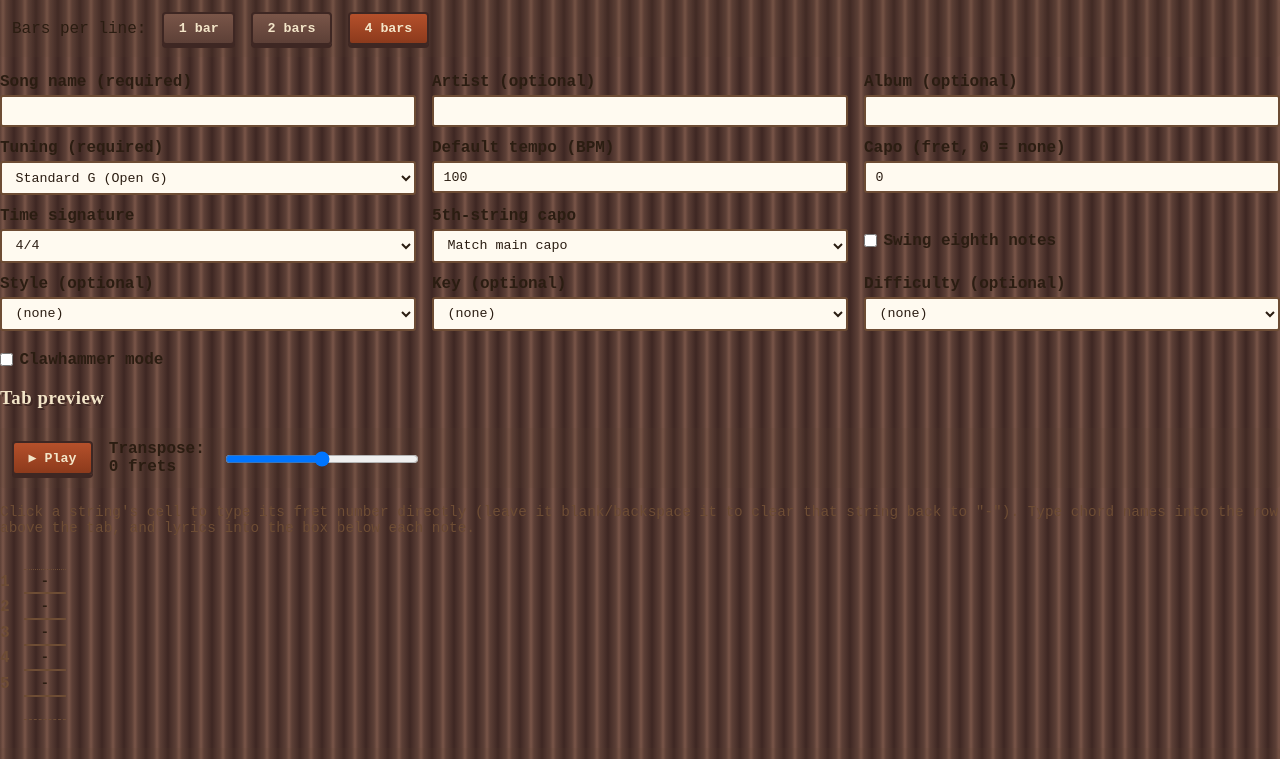
TabEditor › applies a technique via its keyboard shortcut while a note is selected
Click the 1st text with class "clickable" at {"x": 45, "y": 582}, box [24,570,66,594]
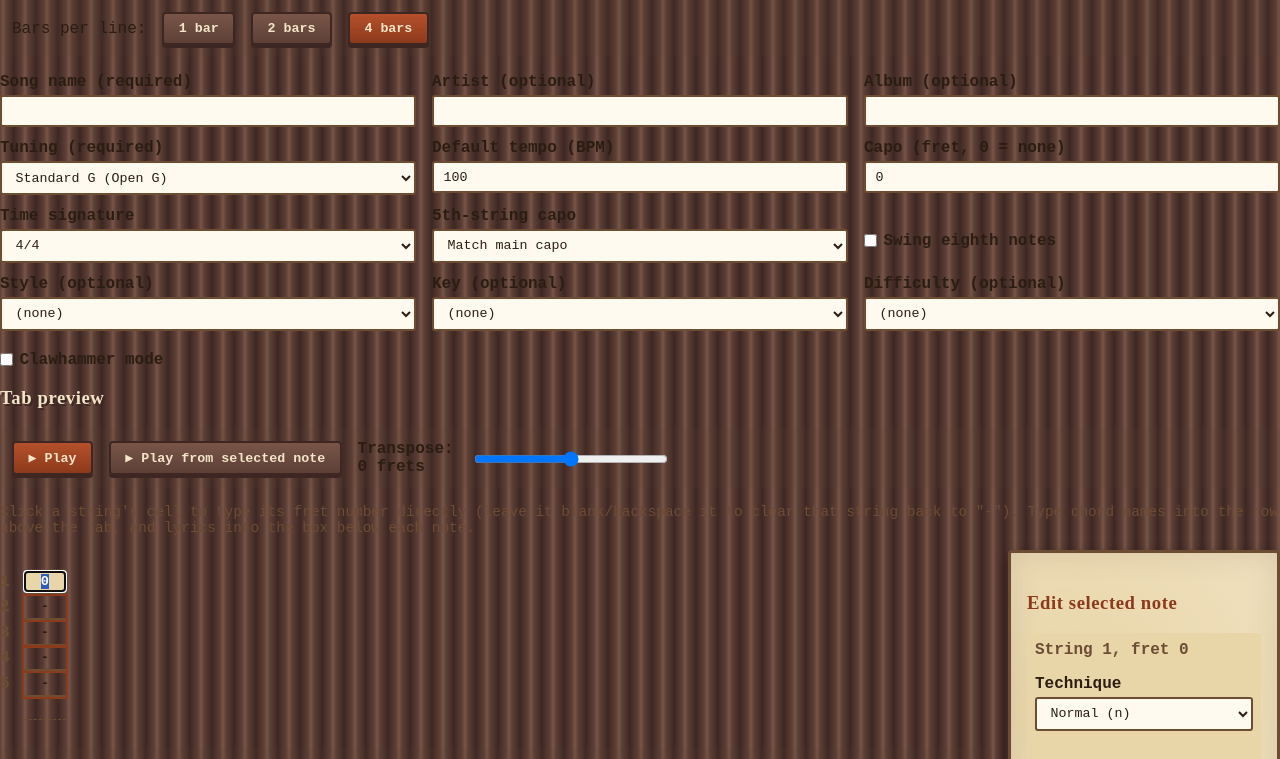
Replace the text in the field named "Fret for string 1" with "2" at {"x": 45, "y": 581}, box [24,571,66,592]
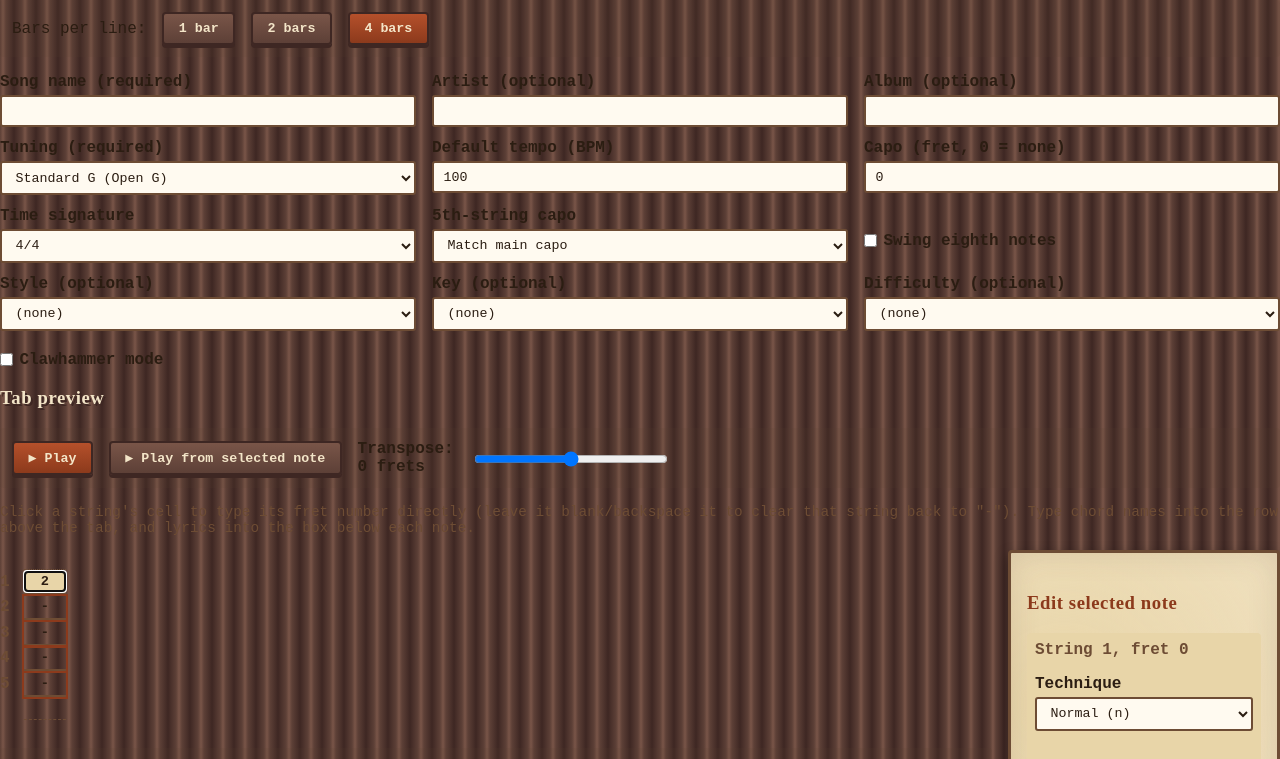
Press Enter
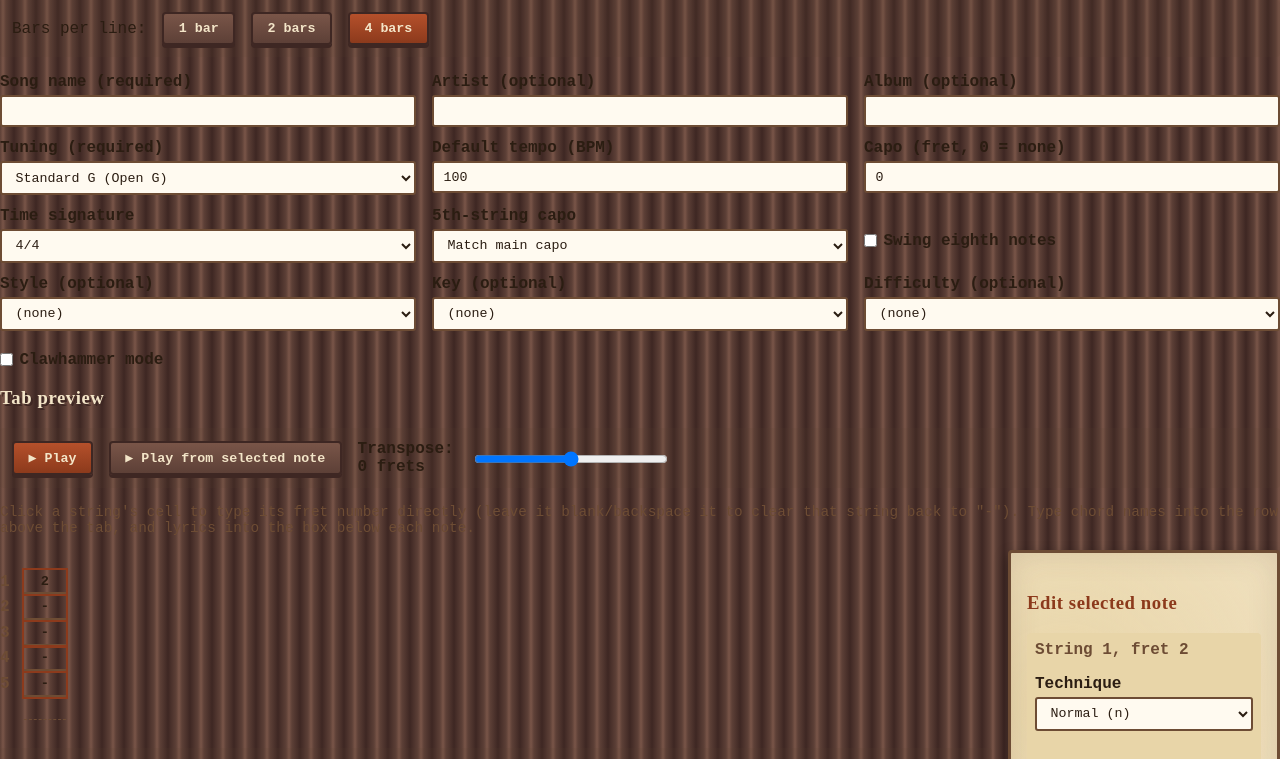
Expected: the heading "Edit selected note" is shown, [1027,592,1177,613]
Type keys "h"
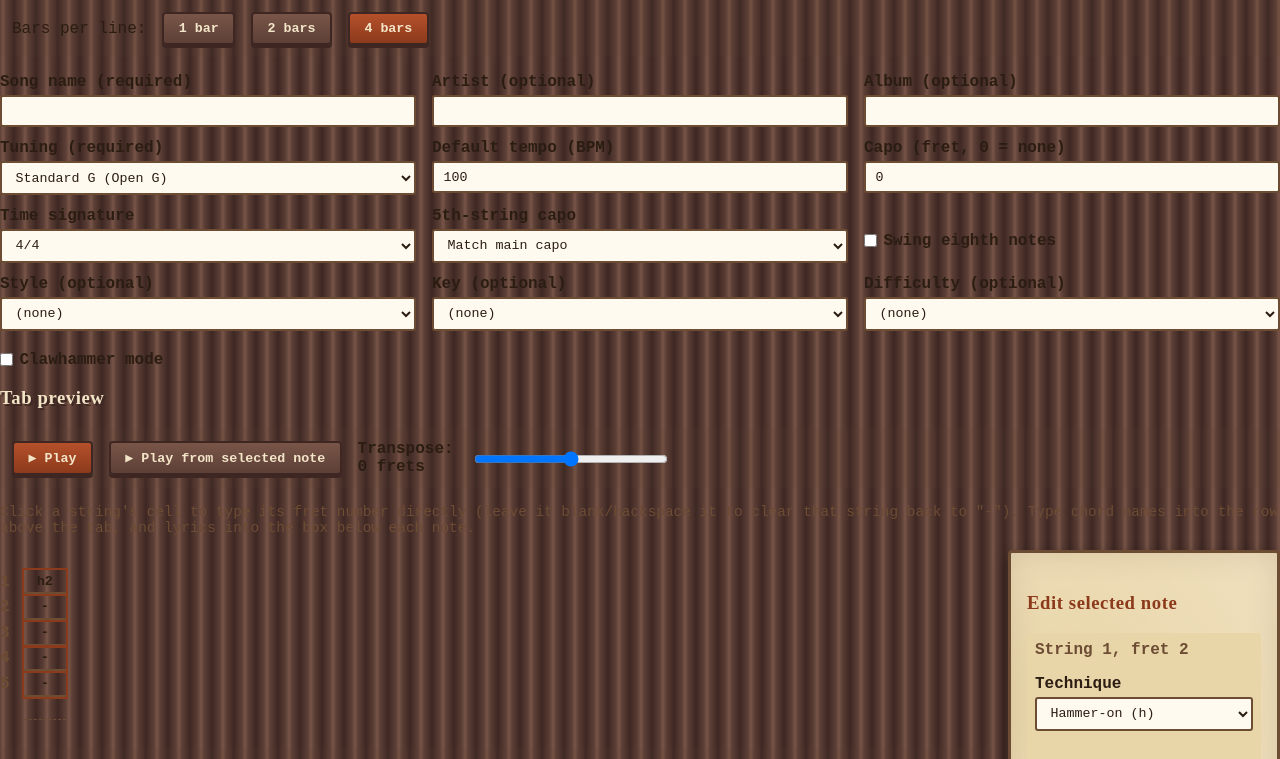
Expected: the dropdown labelled "Technique" shows "Hammer-on (h)", [1035,697,1253,731]
